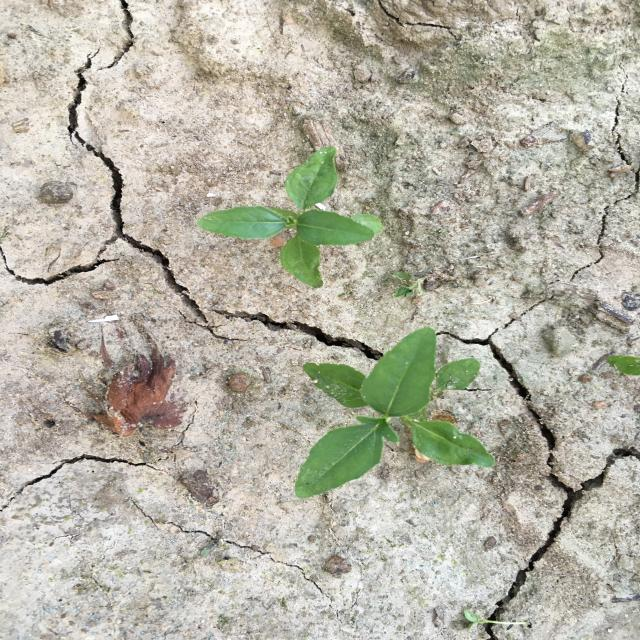Eclipta: (293, 325, 497, 500), (197, 144, 385, 289)
